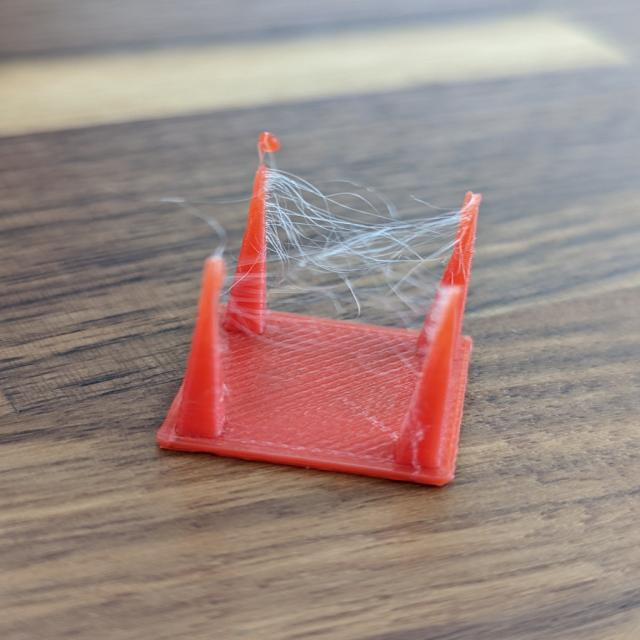Stringing: (239, 167, 470, 336)
